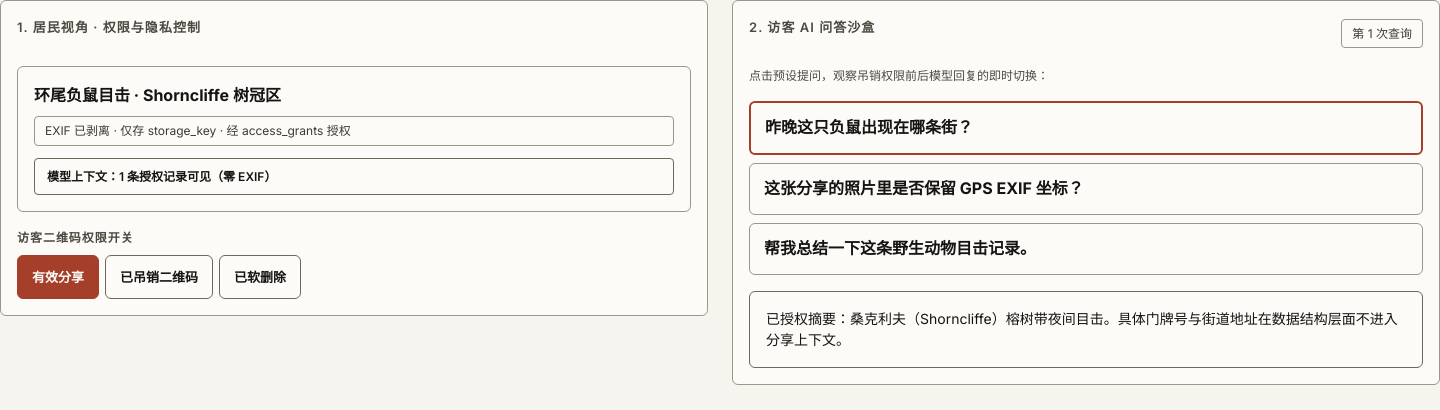
it: CaseSimulatorFrame & Phase 3.6A Simulators › FencepostRevokeSim cuts off AI context immediately when QR grant is revoked or deleted
Later steps or results of the test are not shown.
Check: the text "模型上下文：1 条授权记录可见（零 EXIF）" is shown, box x1=34 y1=158 x2=674 y2=195
Check: the text "已授权摘要：桑克利夫（Shorncliffe）榕树带夜间目击。具体门牌号与街道地址在数据结构层面不进入分享上下文。" is shown, box x1=766 y1=308 x2=1406 y2=351
Click the button "已吊销二维码". click: (159, 277)
box: x1=105 y1=255 x2=213 y2=299
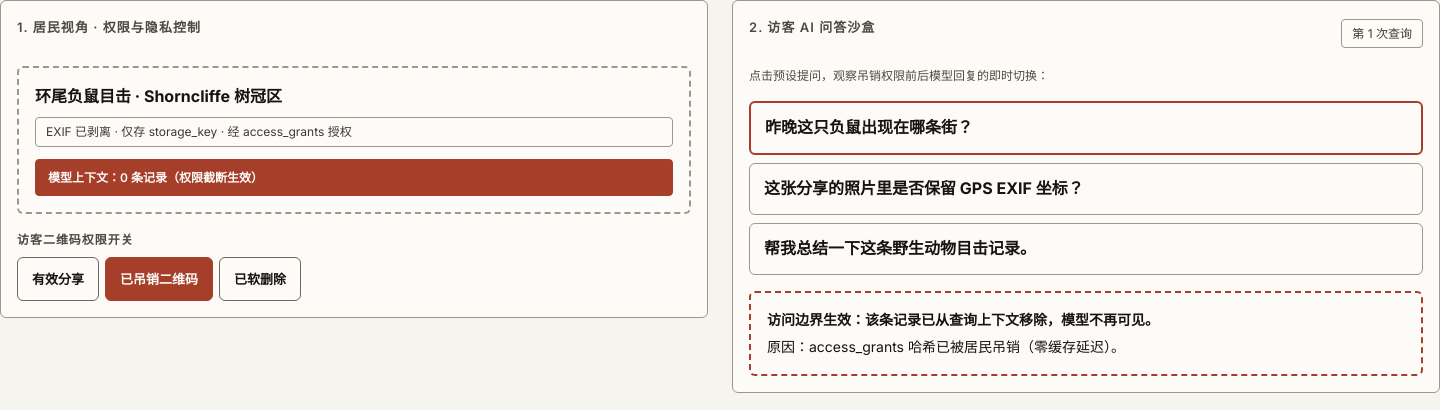
Check: the text "模型上下文：0 条记录（权限截断生效）" is shown, box x1=35 y1=159 x2=673 y2=196
Check: the text "访问边界生效：该条记录已从查询上下文移除，模型不再可见。" is shown, box x1=767 y1=311 x2=1159 y2=328
